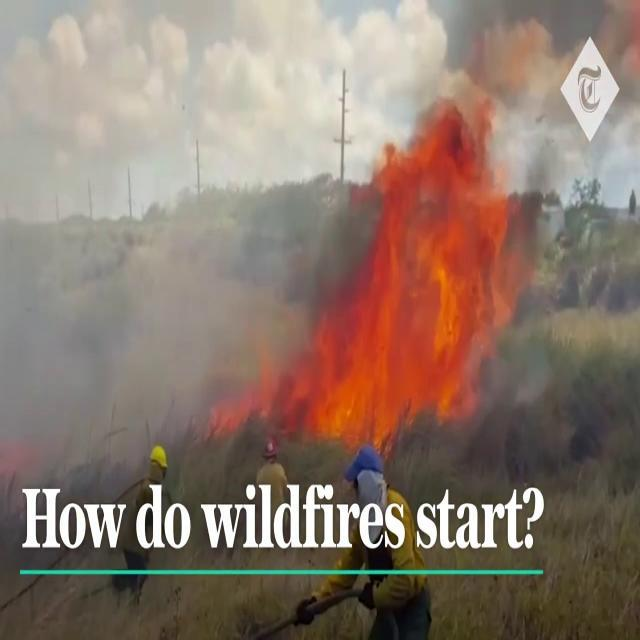Fire: (294, 113, 530, 440)
Smoke: (0, 1, 308, 473)
